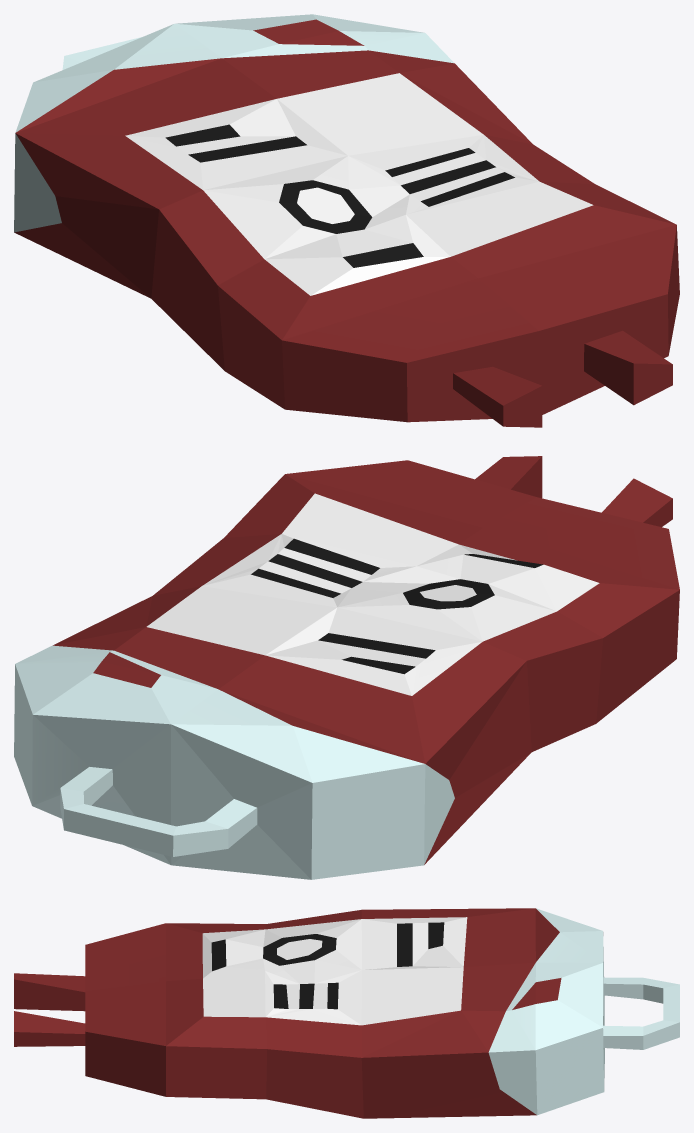
File: apocalypse_blood-bag.fbx
3 renders of one model, top to bottom at view 1: azimuth 30°, elevation 25°; view 2: azimuth 150°, elevation 25°; view 3: azimuth 270°, elevation 25°, orthographic. The views are drawn at different scales.
Parts seen in each view (by area): view 1: apocalypse_blood_bag; view 2: apocalypse_blood_bag; view 3: apocalypse_blood_bag.
Boxes of the visible parts, box(x1,y1,x2,y2) form: apocalypse_blood_bag: box(14, 14, 679, 427); apocalypse_blood_bag: box(14, 456, 679, 879); apocalypse_blood_bag: box(14, 908, 679, 1118).
Bounding box in the file's own units: 101 × 34.16 × 200.
